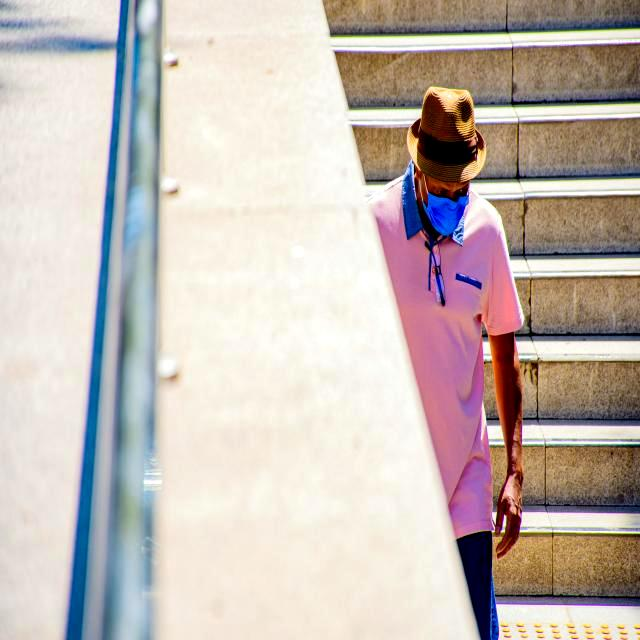no_hard_hat: (407, 86, 486, 183)
person: (368, 87, 524, 640)
